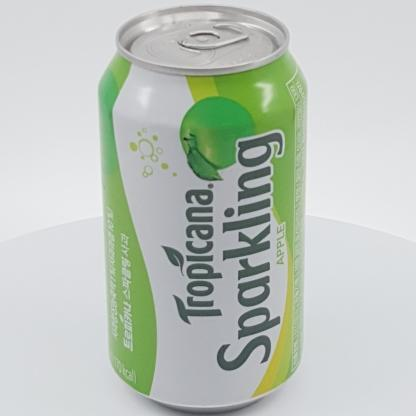-------------355ML: (97, 4, 309, 414)
